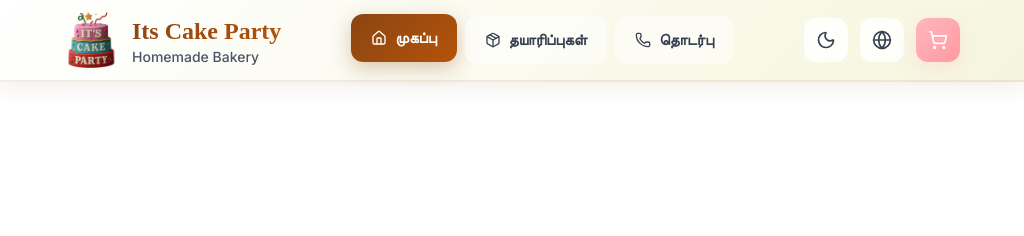
Localization Integration Tests › Dynamic Language Switching › maintains component functionality after language change
The width and height of the screenshot is (1024, 236).
expect the text "முகப்பு" is shown: met, box [395, 26, 436, 50]
Test that dropdown still works
What coordinates should you click on to do the following:
click the button named "மொழியை மாற்று"
I would click on:
 (882, 40)
Its box is [860, 18, 904, 62].
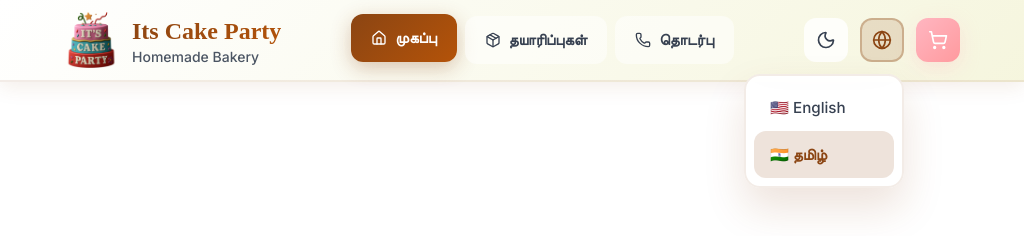
expect the button "🇺🇸 English" is shown: met, box [754, 84, 894, 131]
